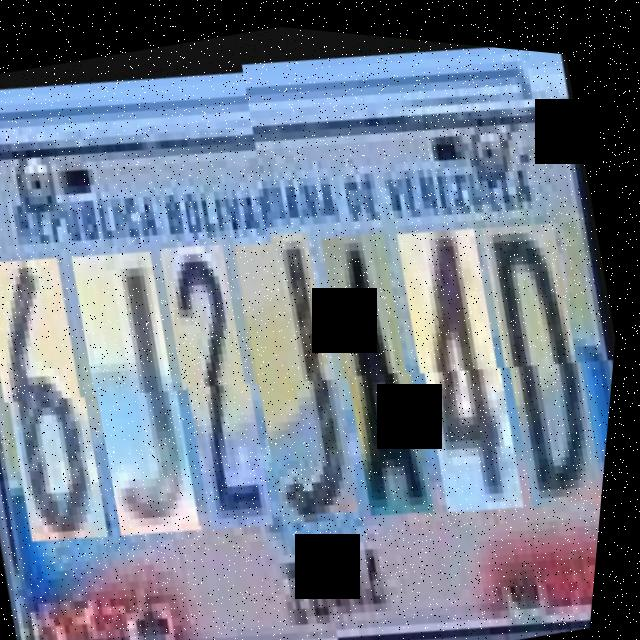2: (147, 225, 303, 529)
4: (384, 205, 552, 512)
6: (0, 242, 139, 550)
A: (308, 215, 464, 519)
D: (467, 196, 629, 501)
J: (58, 231, 232, 541), (218, 214, 387, 522)
